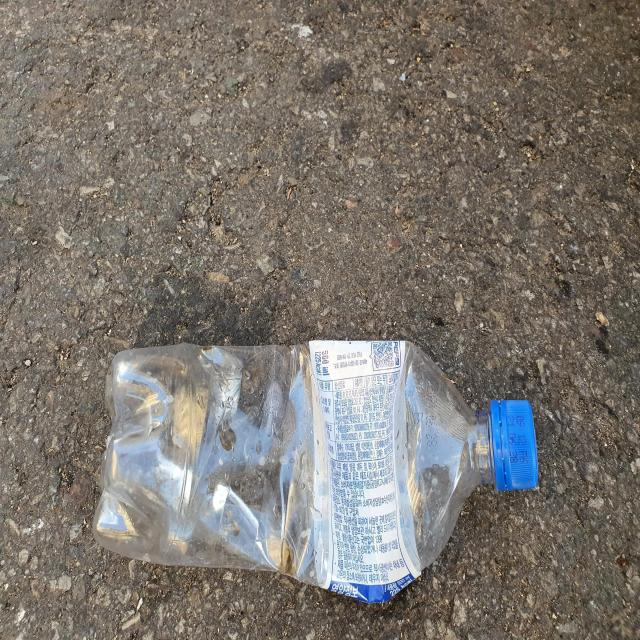plastic: (92, 341, 539, 604)
